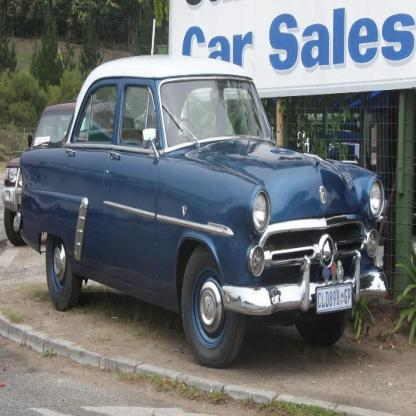Car: (14, 56, 389, 370), (3, 99, 137, 246)
